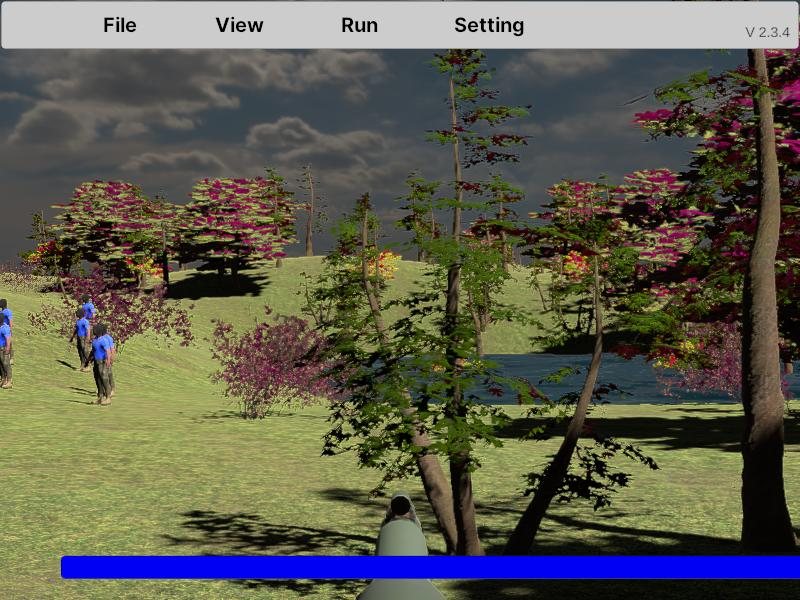Human: (87, 325, 112, 404), (70, 309, 91, 373), (0, 312, 12, 388), (0, 297, 13, 367)
